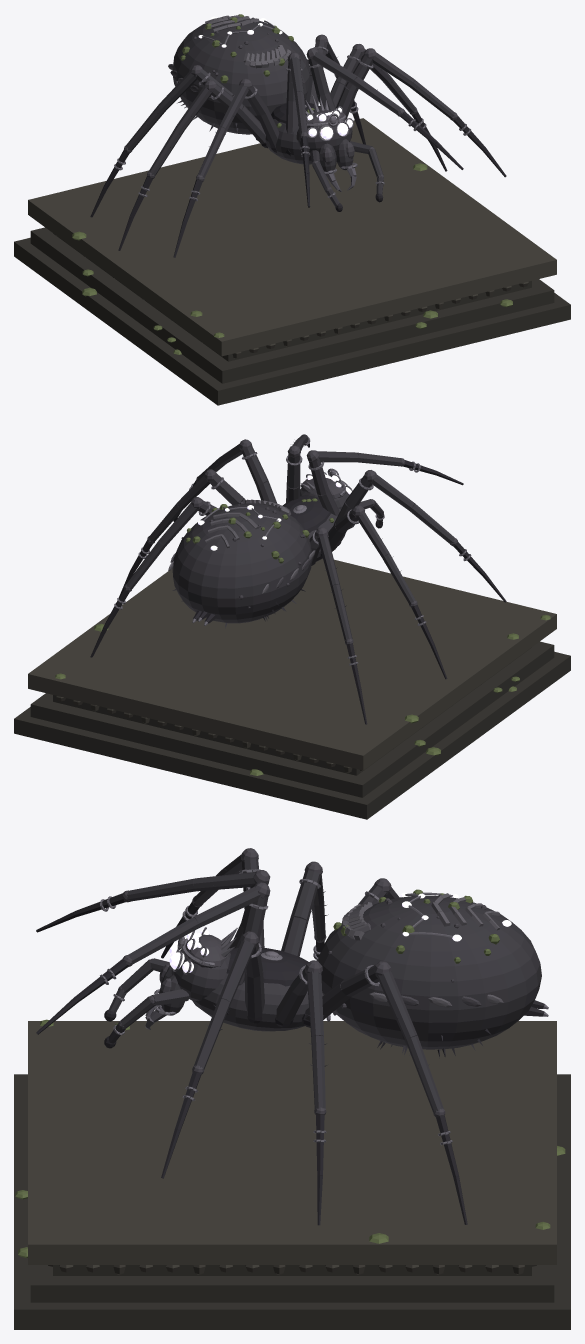
Rendered from idol_tantuvi.glb.
3 renders of one model, top to bottom at view 1: azimuth 30°, elevation 25°; view 2: azimuth 150°, elevation 25°; view 3: azimuth 270°, elevation 25°, orthographic. The views are drawn at different scales.
Visible parts, largest first — view 1: idol_tantuvi_plinth, idol_tantuvi; view 2: idol_tantuvi_plinth, idol_tantuvi; view 3: idol_tantuvi_plinth, idol_tantuvi.
Part boxes in pixels (bbox=[...]): idol_tantuvi_plinth: bbox=[14, 118, 570, 405]; idol_tantuvi: bbox=[90, 14, 506, 257]; idol_tantuvi_plinth: bbox=[14, 558, 570, 819]; idol_tantuvi: bbox=[90, 434, 506, 724]; idol_tantuvi_plinth: bbox=[14, 1019, 570, 1329]; idol_tantuvi: bbox=[36, 848, 548, 1225].
Bounding box in the file's own units: 3.53 × 2.33 × 3.5.
